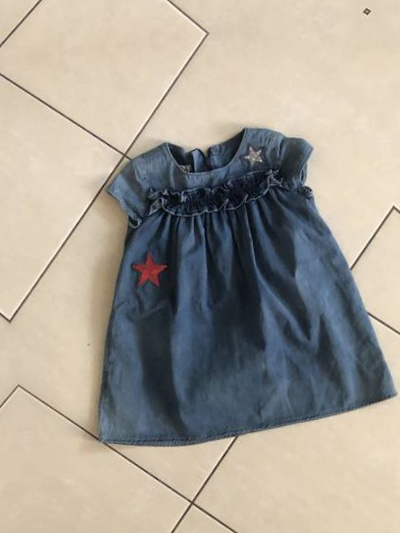Dress: (38, 58, 396, 462), (0, 0, 335, 14)
